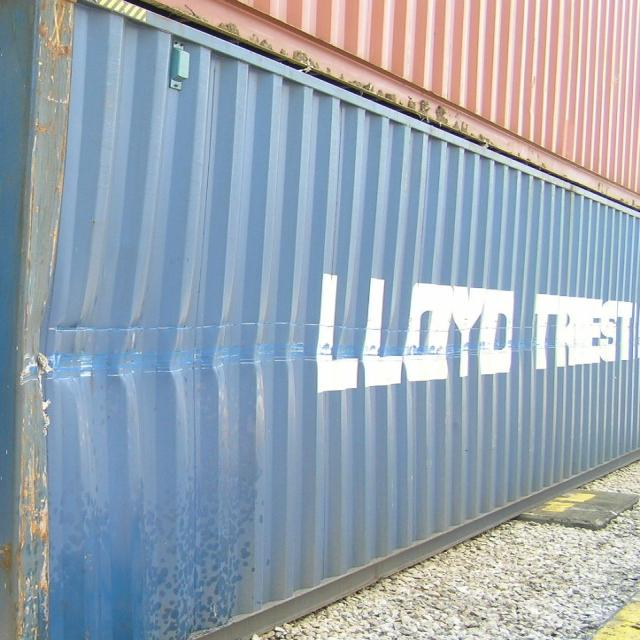dent: (50, 303, 268, 405)
